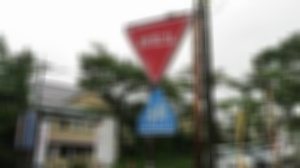Regulatory_sign_triangle: (116, 11, 193, 83)
